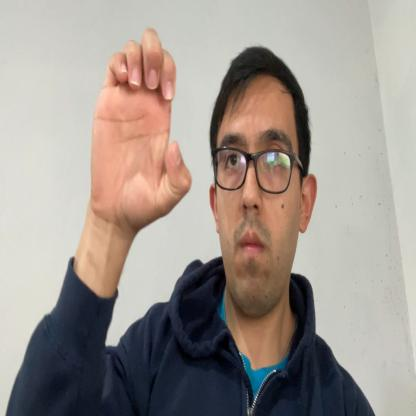E: (91, 27, 193, 237)
